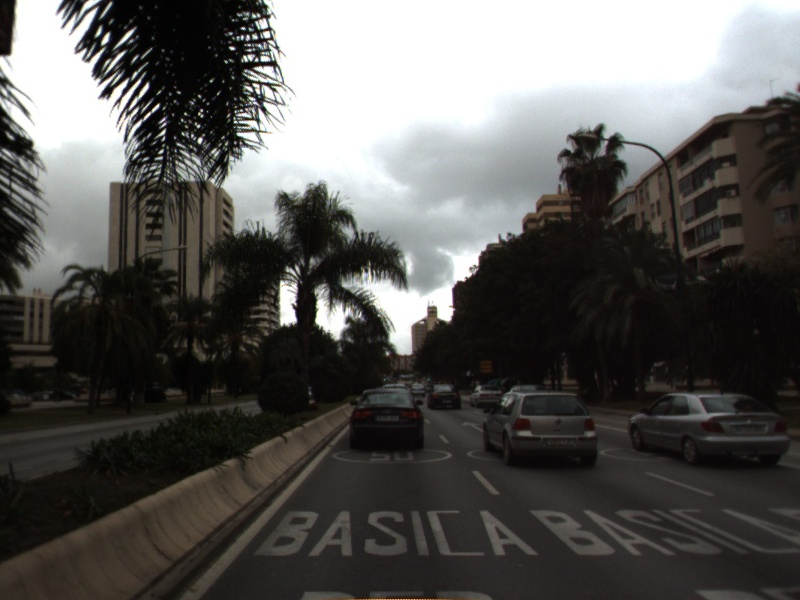STRAIGHT: (459, 420, 485, 433)
